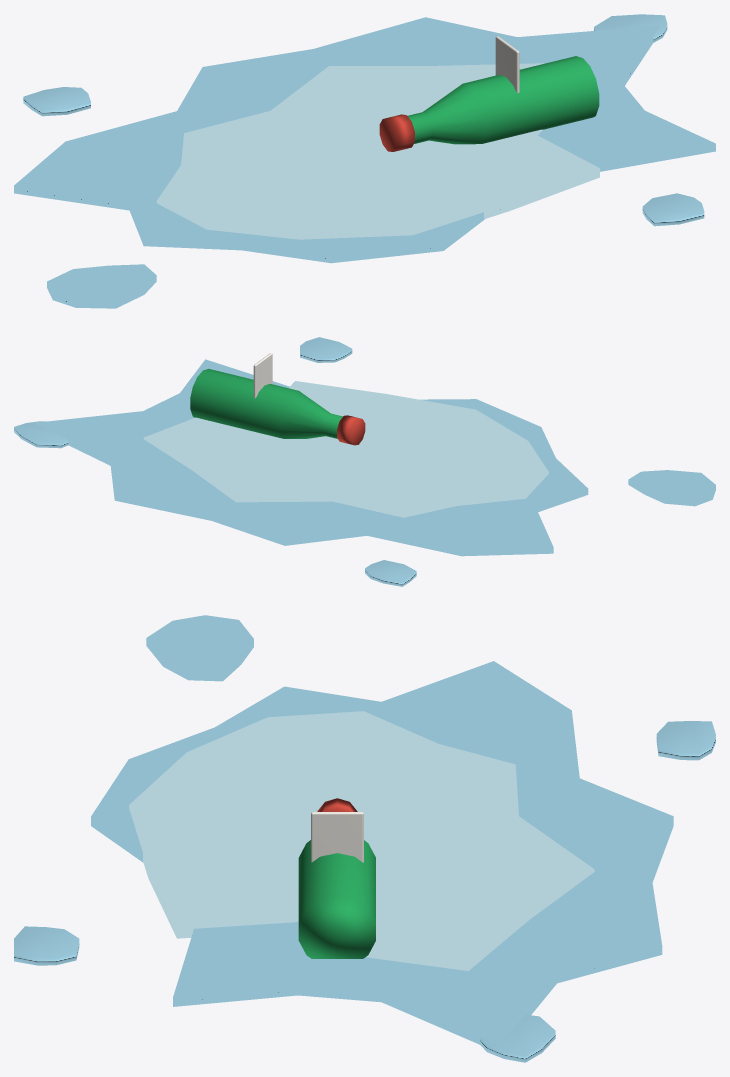
File: staff-puddle.fbx
The picture shows the model from 3 angles, top to bottom: view 1: azimuth 30°, elevation 25°; view 2: azimuth 150°, elevation 25°; view 3: azimuth 270°, elevation 25°; orthographic projection. The views are drawn at different scales.
Visible parts, largest first — view 1: Body; view 2: Body; view 3: Body.
Boxes of the visible parts, x1,y1,x2,y2 form: Body: (14,14,715,308); Body: (14,337,715,586); Body: (14,615,715,1062).
Size of the model in its own units: 1.18 by 0.14 by 0.7968.
